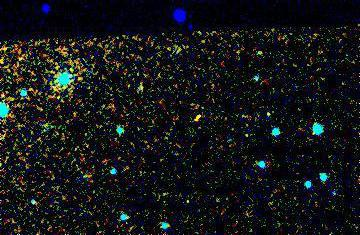star: (180, 105, 210, 135)
